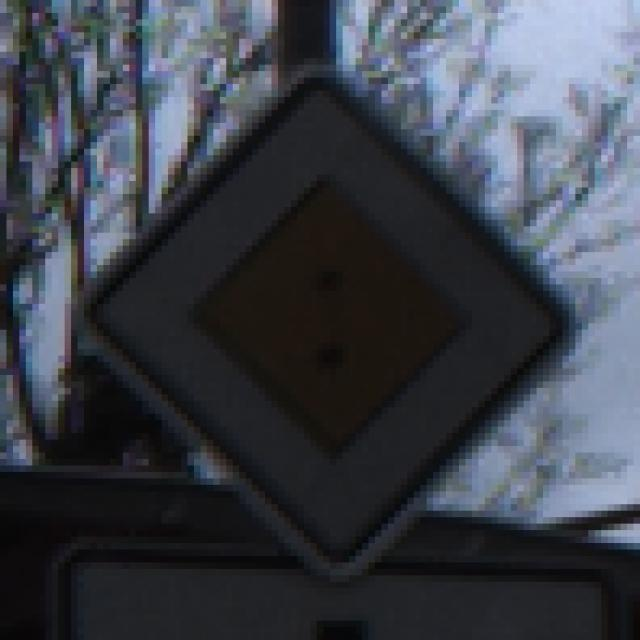Main Road: (59, 59, 589, 589)
